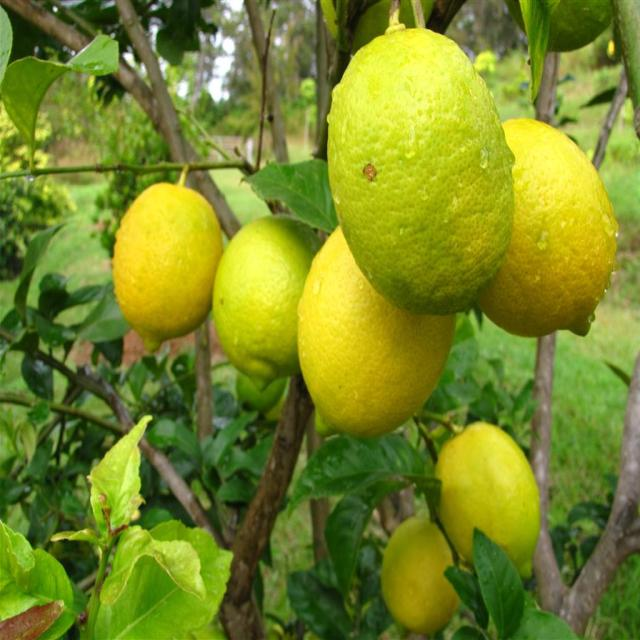lemon: (302, 0, 526, 327), (285, 168, 475, 484), (444, 88, 614, 357), (85, 140, 246, 383), (201, 190, 350, 388), (430, 378, 566, 587), (355, 495, 493, 635)
